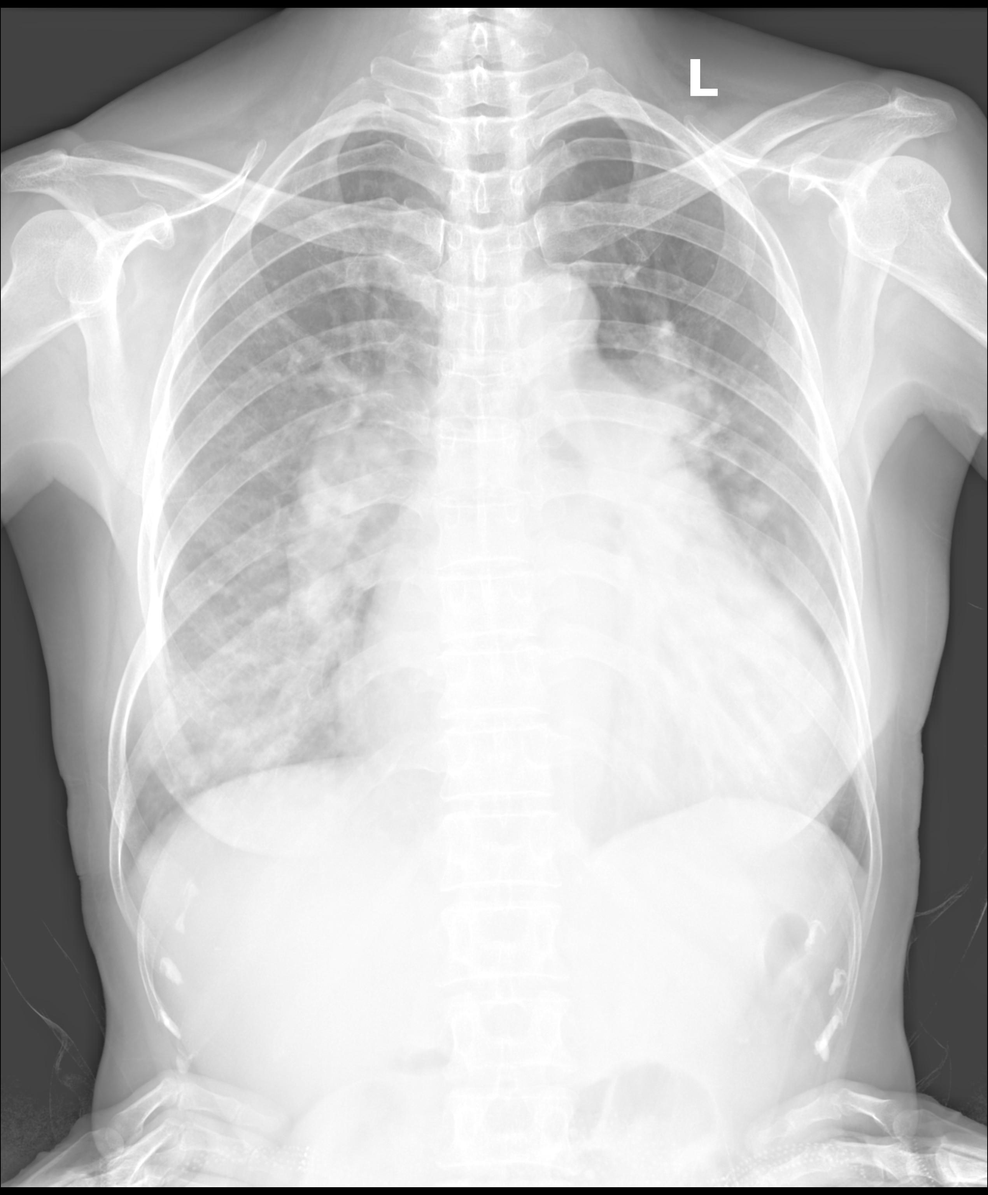Cardiomegaly: (358, 606, 847, 832)
